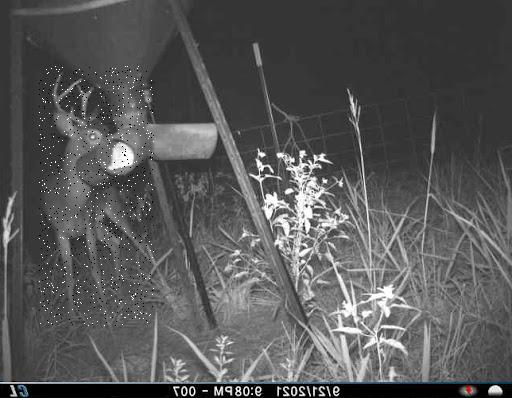Deer: (39, 66, 154, 326)
